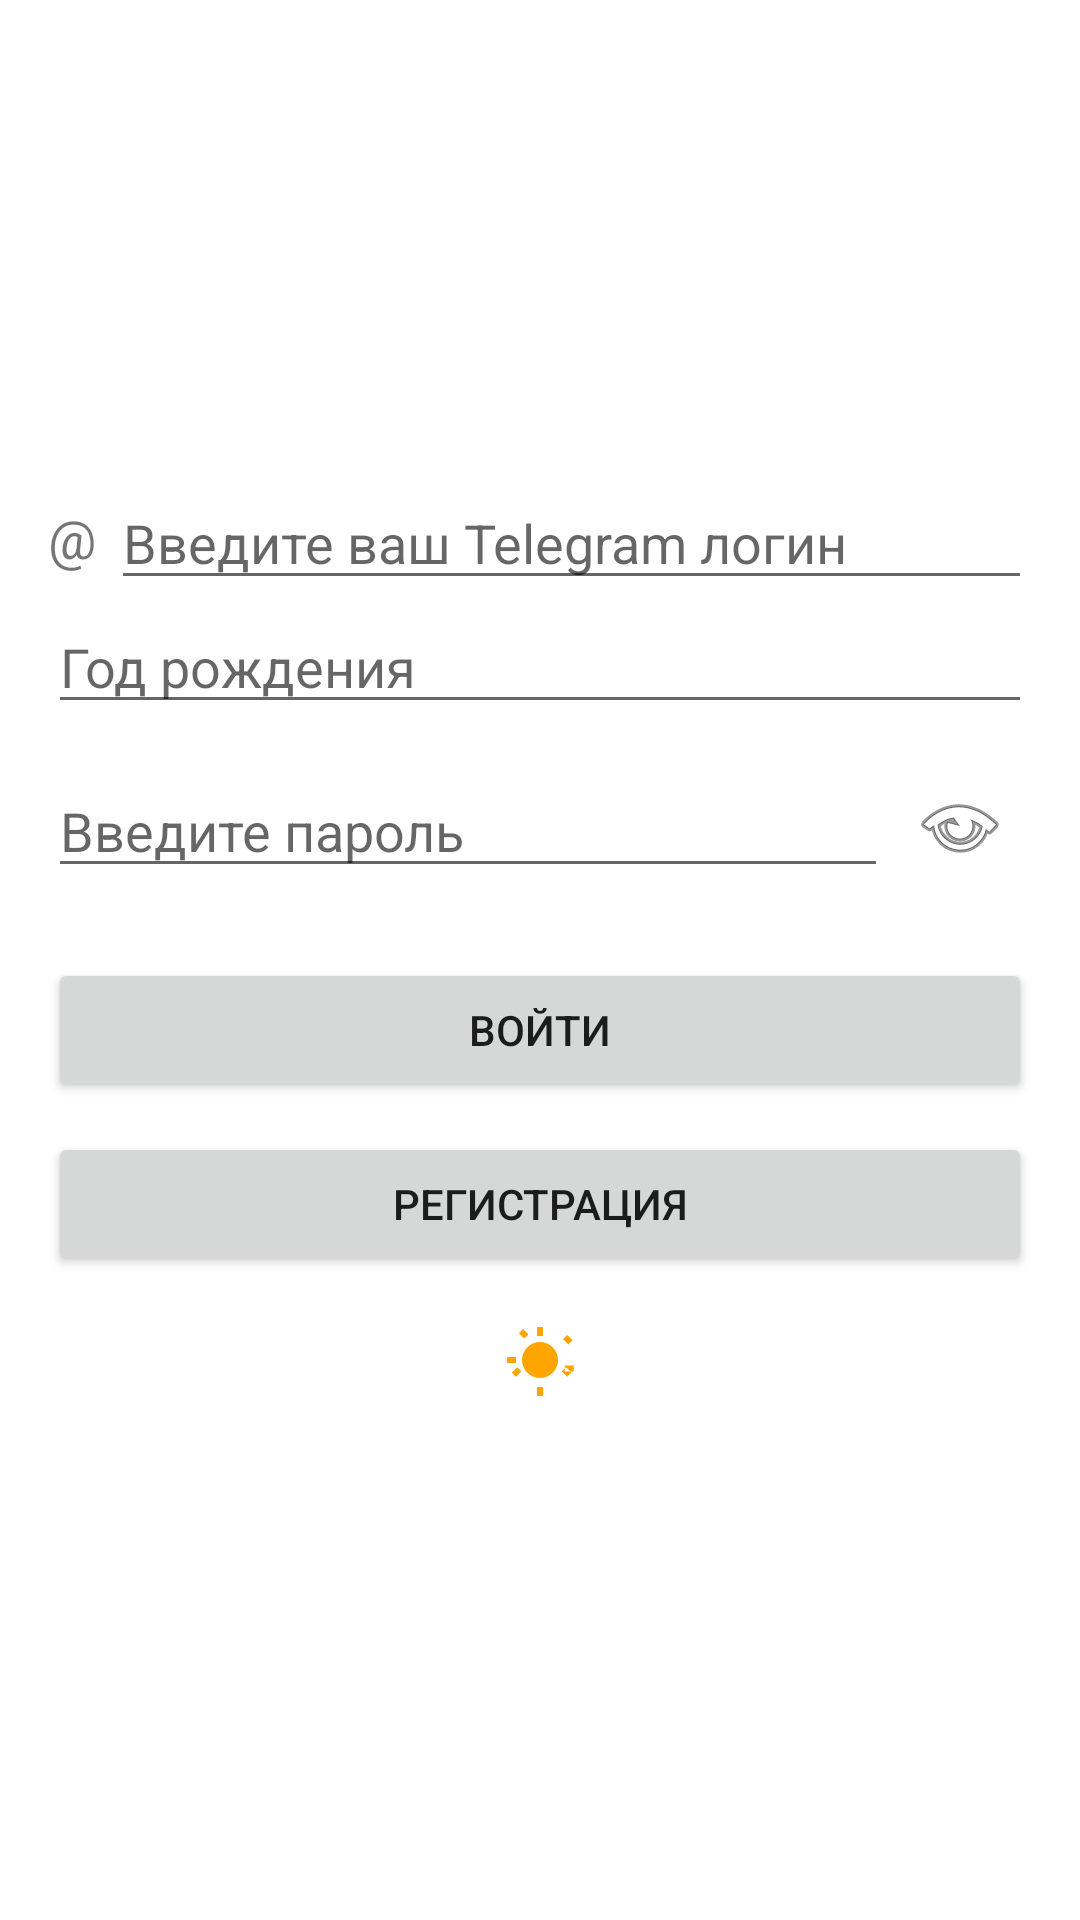

Named icons in this screenshot (1080x1920) and their bounding boxes, (x1, y1, x2, y2):
sun: (507, 1327, 574, 1396)
view: (921, 804, 999, 853)
